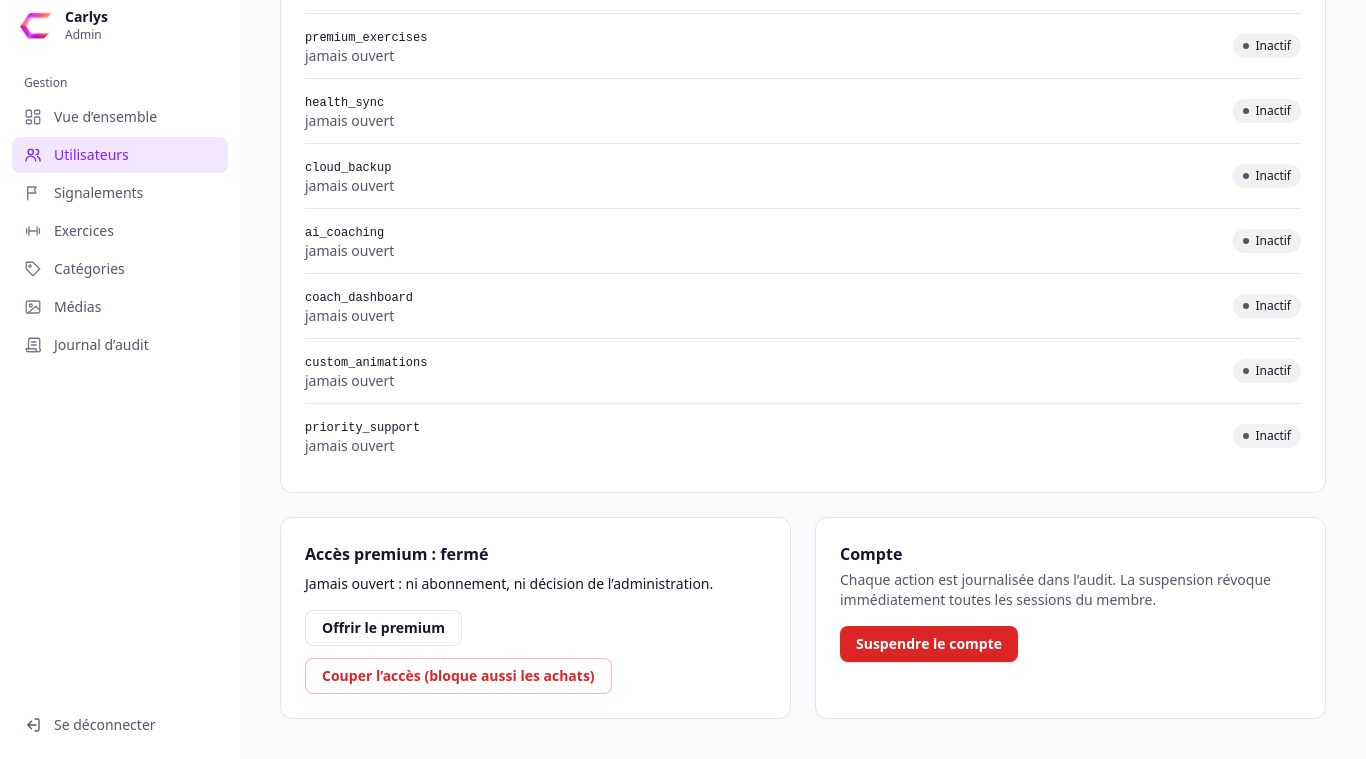
Test: Fiche utilisateur › montre un refus de permission (403) comme tel, pas comme une panne
(page scrolled)
Click the button "Offrir le premium".
click(384, 628)  # box [305, 610, 462, 646]
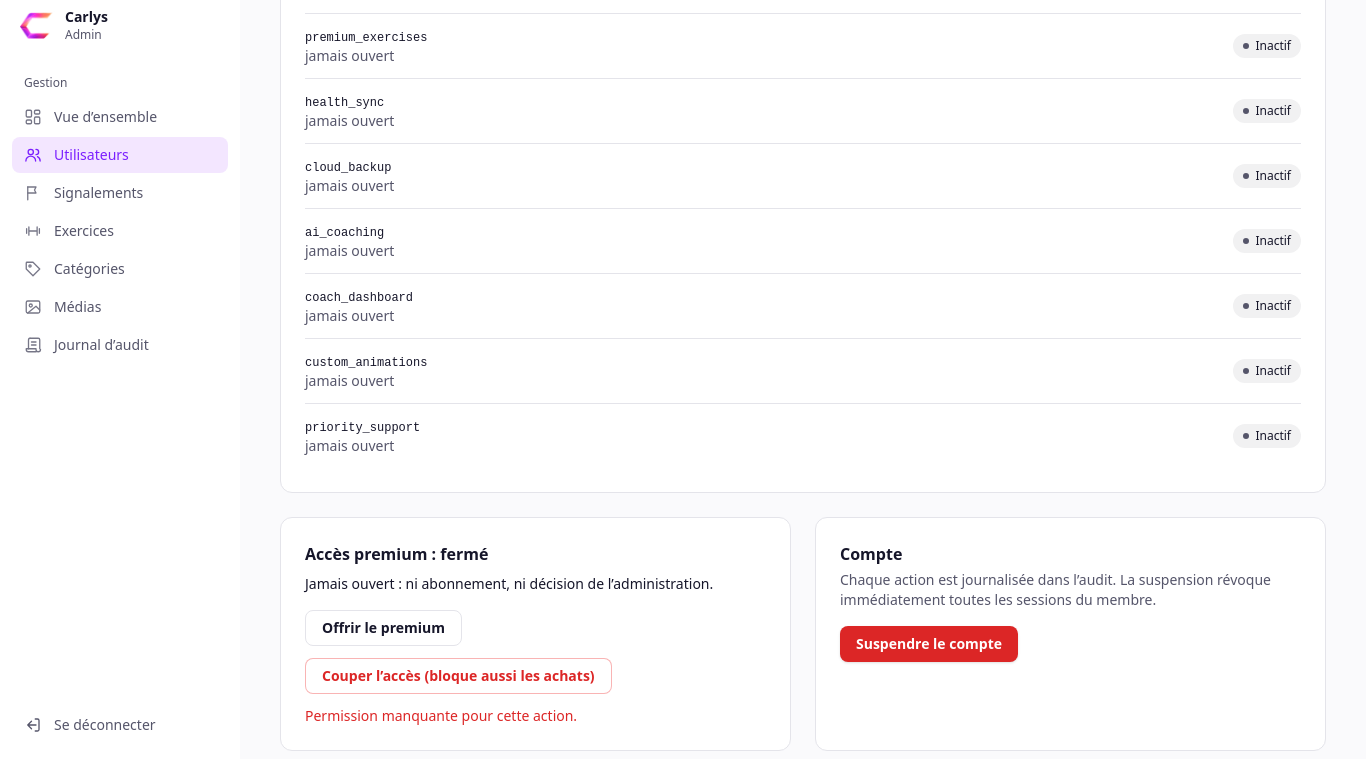
Check: the message does not show "Action impossible", box [305, 706, 577, 725]
Check: the message reads "Permission manquante pour cette action.", box [305, 706, 577, 725]
